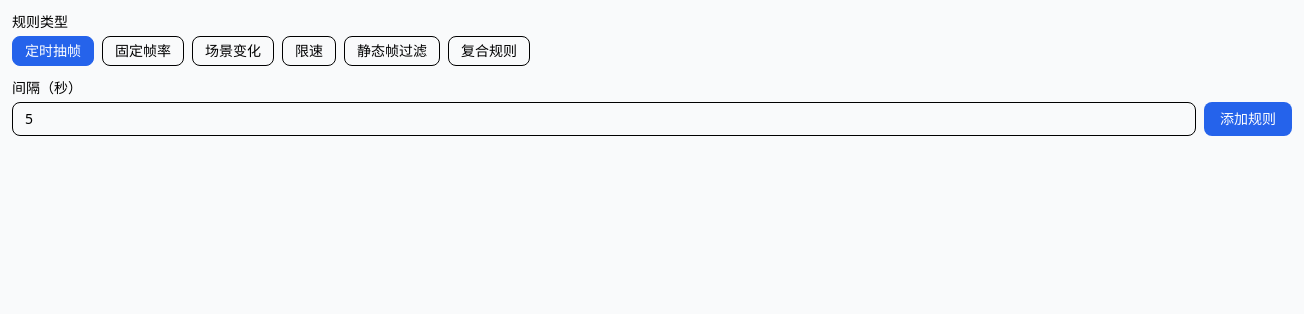
Test: RuleEditor › shows static_frame options when type selected
Click the button "静态帧过滤" at x=392, y=51, box left=344, top=36, right=440, bottom=66
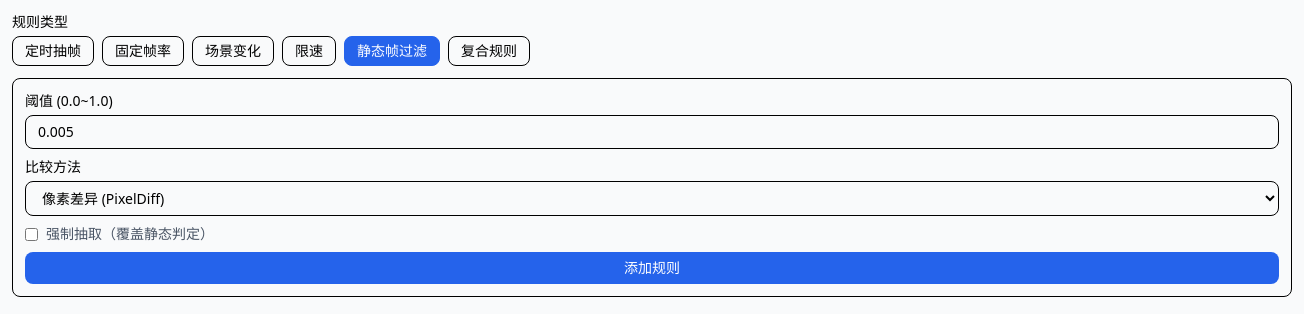
Now the text "比较方法" is shown, box left=25, top=157, right=81, bottom=176
Now the text "强制抽取（覆盖静态判定）" is shown, box left=46, top=224, right=214, bottom=244
Now the number field showing "0.005" is shown, box left=25, top=115, right=1279, bottom=149
